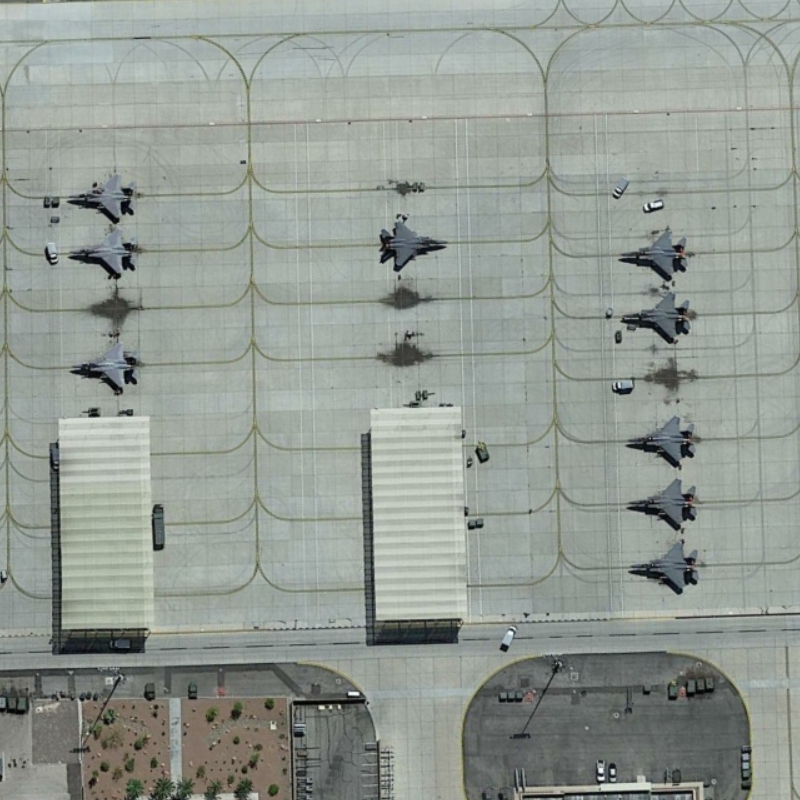A13: (51, 330, 147, 400), (54, 163, 150, 227), (625, 406, 709, 477), (616, 286, 701, 354), (619, 475, 708, 536), (619, 539, 709, 599), (617, 224, 697, 289), (375, 210, 452, 276), (60, 222, 137, 286)
